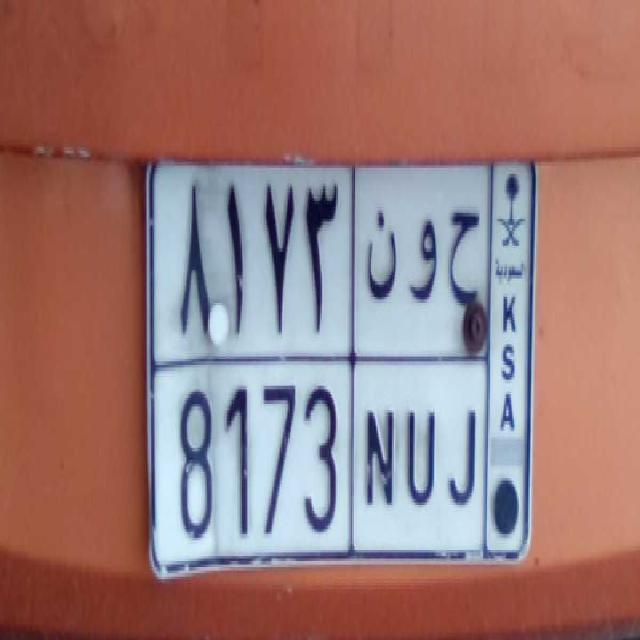license_plate: (161, 357, 483, 592)
